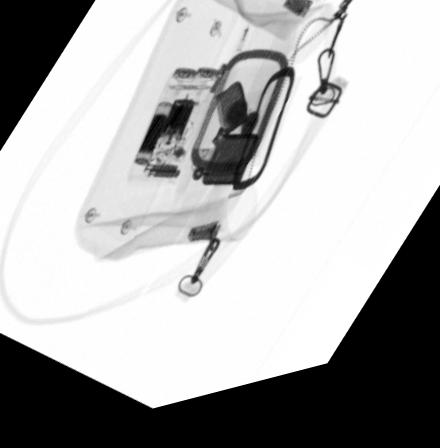Lighter: (187, 92, 260, 199)
